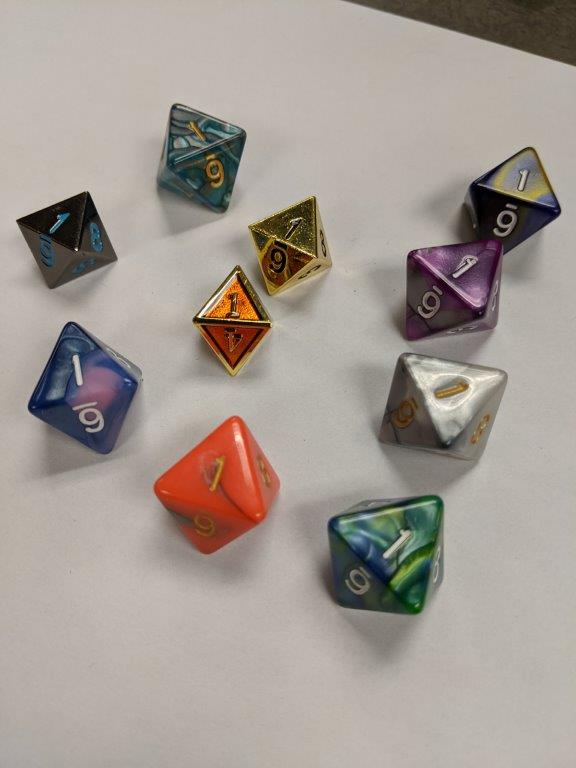d8-1: (152, 413, 282, 555), (27, 321, 142, 458), (375, 352, 509, 460), (328, 495, 447, 614), (465, 145, 562, 258), (16, 187, 119, 292), (154, 102, 247, 213), (407, 237, 506, 334), (247, 194, 332, 296), (193, 265, 272, 374)
